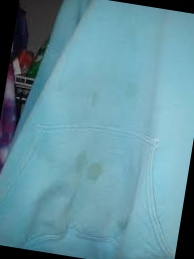mustard: (73, 149, 91, 174), (87, 163, 103, 180), (124, 80, 138, 99), (90, 92, 100, 108)
